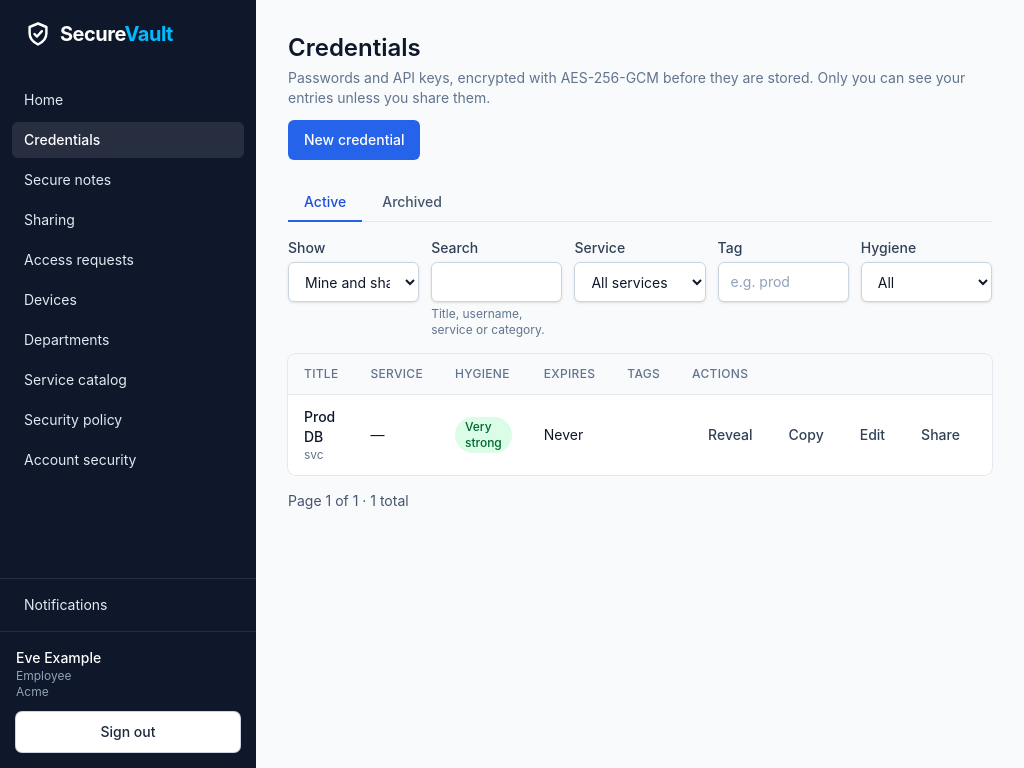
sharing a credential › shows the delegation tree with nesting and state
Click the button with aria-label "Share Prod DB" at x=940, y=435, box [905,415,976,455]
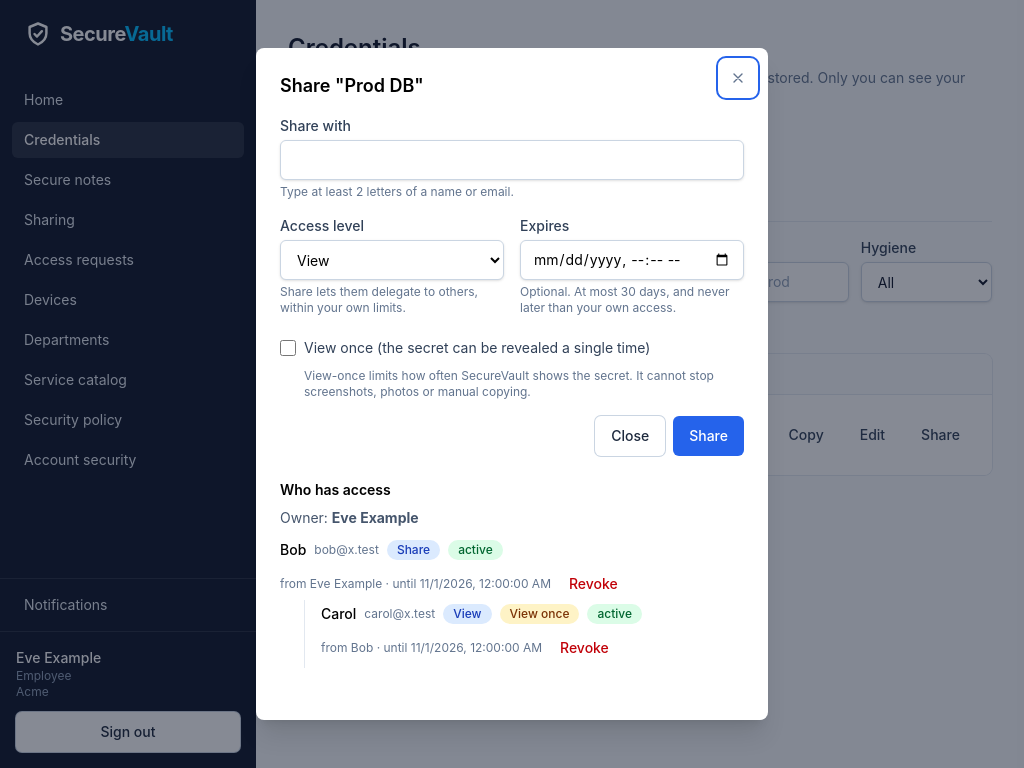
Result: the number of list items is 2 at [280,536,744,672]; [321,604,642,664]
Result: the text "View once" is shown at [500,604,580,624]
